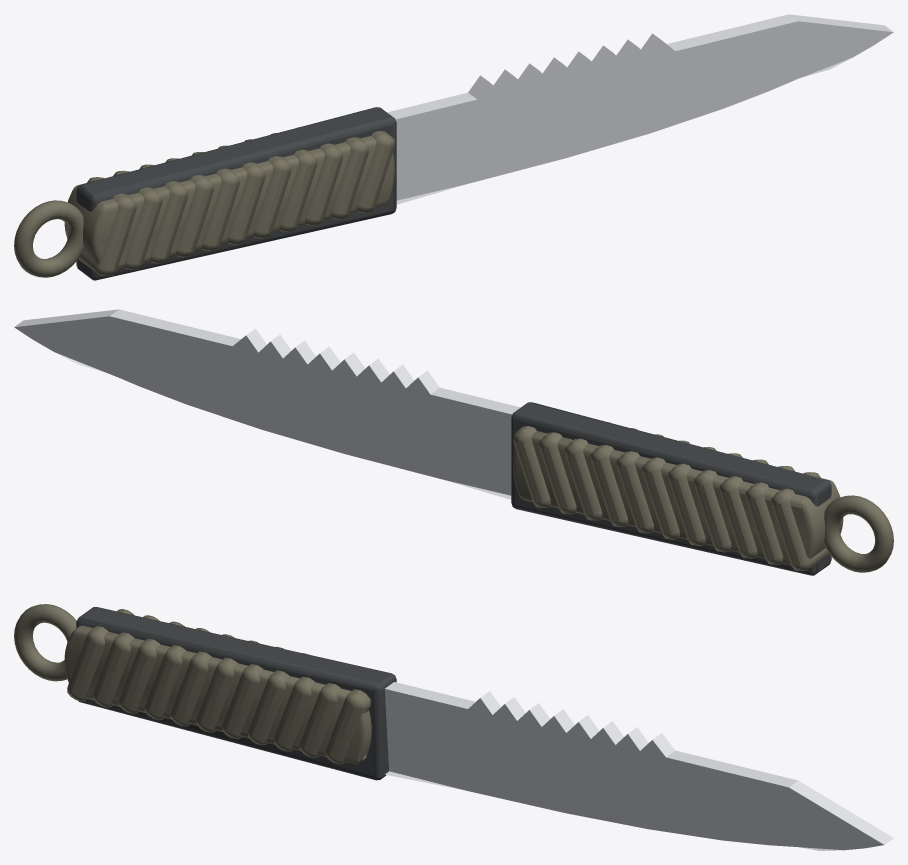
File: knife_survival.glb
3 renders of one model, top to bottom at view 1: azimuth 30°, elevation 25°; view 2: azimuth 150°, elevation 25°; view 3: azimuth 330°, elevation 25°, orthographic.
Visible parts, largest first — view 1: lod_skin_blade, lod_detail_cord, lod_metal_dark; view 2: lod_skin_blade, lod_detail_cord, lod_metal_dark; view 3: lod_skin_blade, lod_detail_cord, lod_metal_dark.
Boxes of the visible parts, <box> form: lod_skin_blade: <box>387,14,893,204</box>; lod_detail_cord: <box>14,127,394,277</box>; lod_metal_dark: <box>76,107,396,280</box>; lod_skin_blade: <box>14,309,520,499</box>; lod_detail_cord: <box>513,422,893,572</box>; lod_metal_dark: <box>511,402,831,575</box>; lod_skin_blade: <box>384,682,893,850</box>; lod_detail_cord: <box>14,604,371,764</box>; lod_metal_dark: <box>76,607,396,780</box>.
Bounding box in the file's own units: 0.32 × 0.037 × 0.023.
